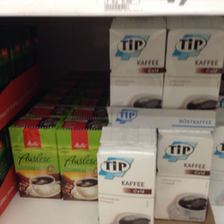chocolate: (108, 20, 166, 109)
coffee: (96, 127, 157, 224), (155, 130, 213, 221), (164, 27, 224, 108), (9, 116, 63, 199), (56, 118, 102, 203)
